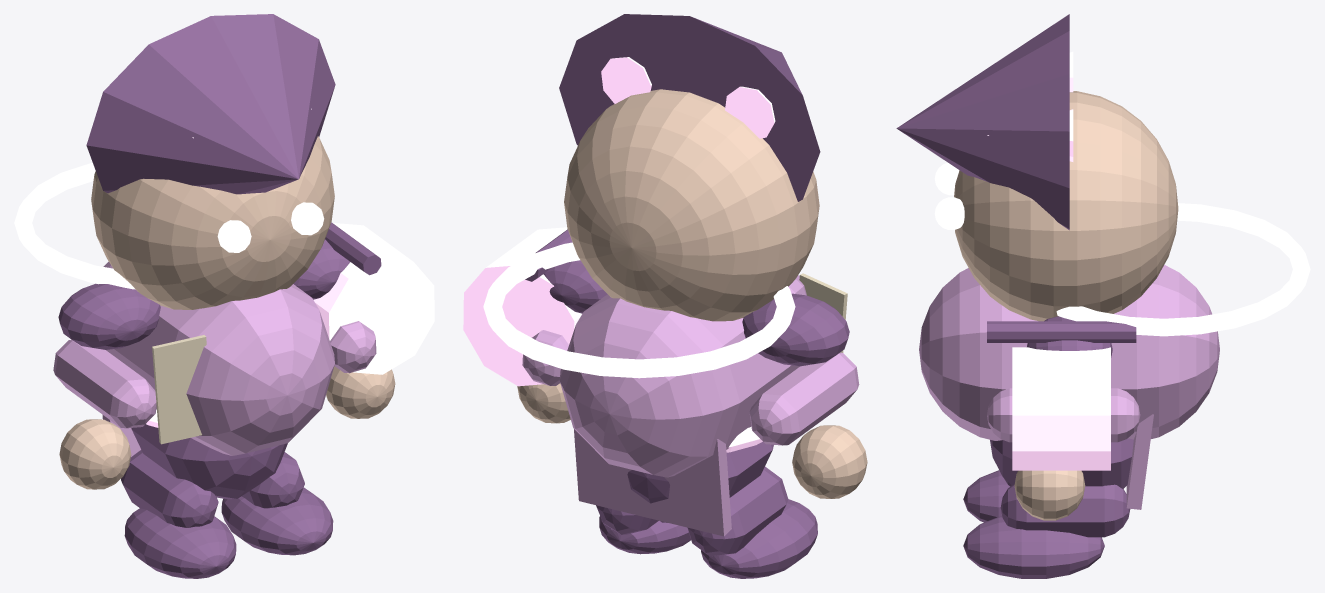
Rendered from guardian-bell-sd-toon.glb.
The picture shows the model from 3 angles, left to right: view 1: azimuth 30°, elevation 25°; view 2: azimuth 150°, elevation 25°; view 3: azimuth 270°, elevation 25°; orthographic projection. The views are drawn at different scales.
Parts seen in each view (by area): view 1: hood, head, body, signature, armL, footL, pelvis, shoulderL, footR, legL, talisman, handL (+8 smaller); view 2: head, body, hood, halo, cloth, signature, armL, shoulderL, footL, handL, legL, pelvis (+8 smaller); view 3: head, body, hood, signature, halo, footR, legR, weapon, handR, armR, pelvis, footL (+4 smaller).
Part boxes in pixels (x1=…): hood: x1=86, y1=14, x2=335, y2=194; head: x1=91, y1=136, x2=334, y2=309; body: x1=103, y1=261, x2=334, y2=455; signature: x1=313, y1=223, x2=434, y2=374; armL: x1=53, y1=339, x2=156, y2=428; footL: x1=124, y1=508, x2=236, y2=578; pelvis: x1=131, y1=424, x2=287, y2=499; shoulderL: x1=58, y1=283, x2=160, y2=349; footR: x1=221, y1=487, x2=333, y2=555; legL: x1=121, y1=450, x2=218, y2=527; talisman: x1=152, y1=335, x2=206, y2=444; handL: x1=59, y1=419, x2=131, y2=489; head: x1=564, y1=89, x2=819, y2=321; body: x1=559, y1=275, x2=806, y2=477; hood: x1=559, y1=14, x2=820, y2=201; halo: x1=483, y1=242, x2=795, y2=378; cloth: x1=574, y1=429, x2=731, y2=536; signature: x1=463, y1=227, x2=581, y2=386; armL: x1=749, y1=352, x2=859, y2=445; shoulderL: x1=742, y1=293, x2=849, y2=366; footL: x1=701, y1=499, x2=817, y2=578; handL: x1=792, y1=425, x2=867, y2=498; legL: x1=687, y1=466, x2=788, y2=556; pelvis: x1=627, y1=442, x2=773, y2=522; head: x1=954, y1=91, x2=1178, y2=321; body: x1=919, y1=265, x2=1219, y2=440; hood: x1=896, y1=14, x2=1069, y2=230; signature: x1=1012, y1=347, x2=1110, y2=470; halo: x1=1056, y1=203, x2=1310, y2=336; footR: x1=963, y1=516, x2=1104, y2=578; legR: x1=1000, y1=484, x2=1130, y2=537; weapon: x1=987, y1=321, x2=1136, y2=342; handR: x1=1014, y1=470, x2=1085, y2=520; armR: x1=987, y1=388, x2=1140, y2=442; pelvis: x1=990, y1=438, x2=1133, y2=488; footL: x1=963, y1=470, x2=1009, y2=522.
Bounding box in the file's own units: 2.02 × 2.9 × 2.1.
